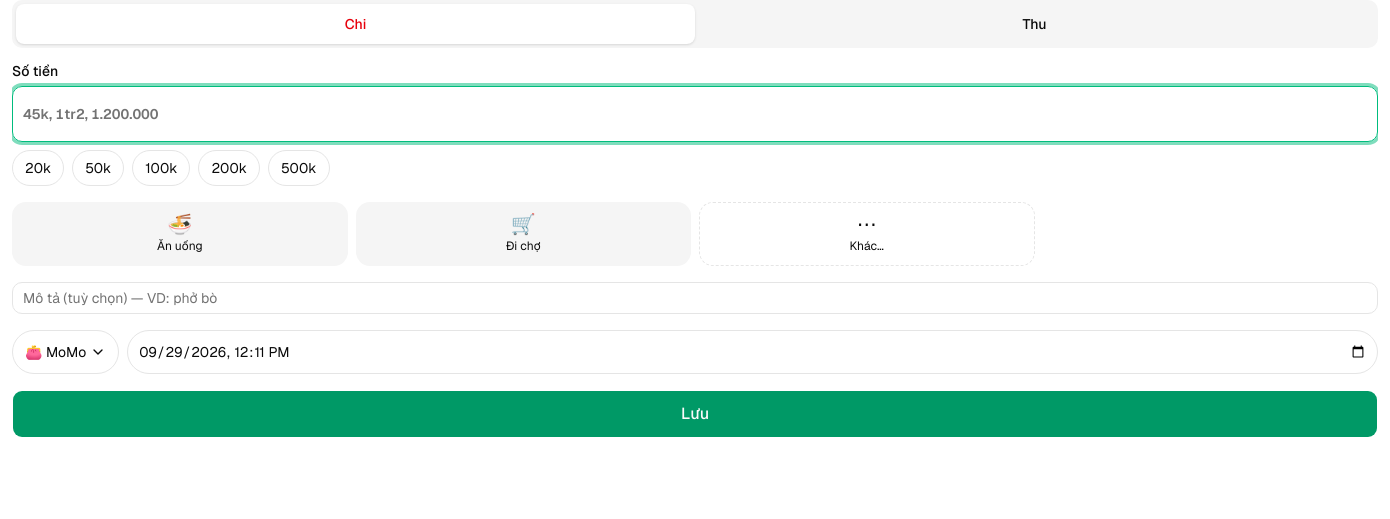
Test: TransactionForm (create) › rejects an invalid amount and shows API errors in place
Type "abc" into the field labelled "Số tiền". click: point(695, 114)
box: left=12, top=86, right=1378, bottom=142
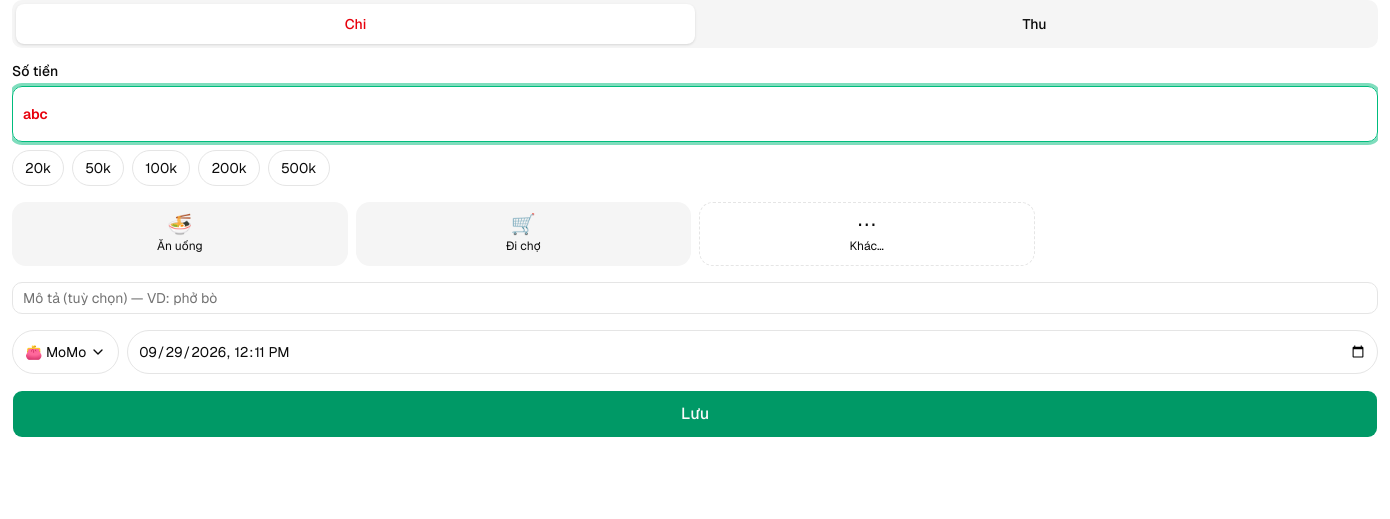
Click the button "Lưu". click: point(695, 414)
box: left=12, top=390, right=1378, bottom=438
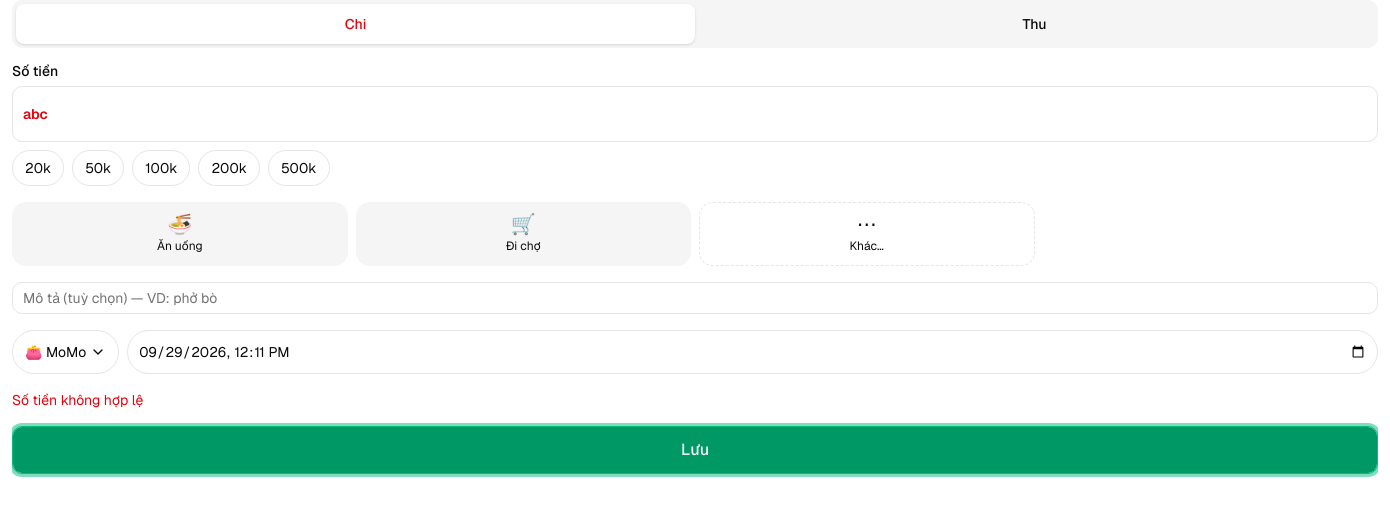
Expected: the text "Số tiền không hợp lệ" is shown, left=12, top=391, right=143, bottom=409
Replace the text in the field labelled "Số tiền" with "10k". click: point(695, 114)
box: left=12, top=86, right=1378, bottom=142
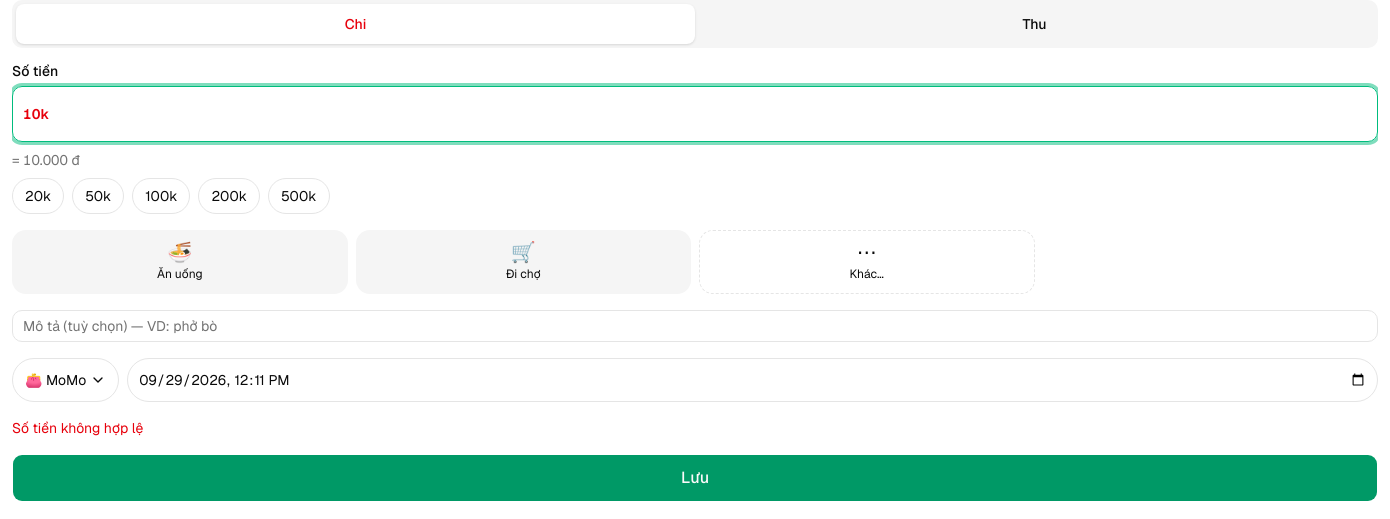
Click the button "Lưu". click: point(695, 478)
box: left=12, top=454, right=1378, bottom=502
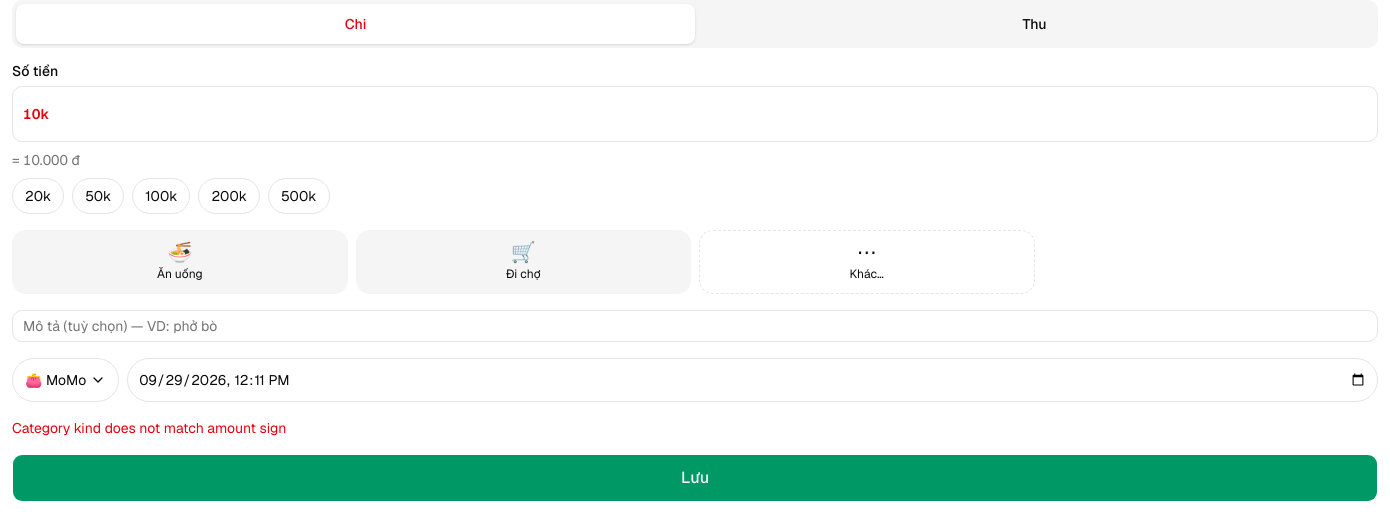
Expected: the text "Category kind does not match amount sign" is shown, left=12, top=419, right=286, bottom=437
